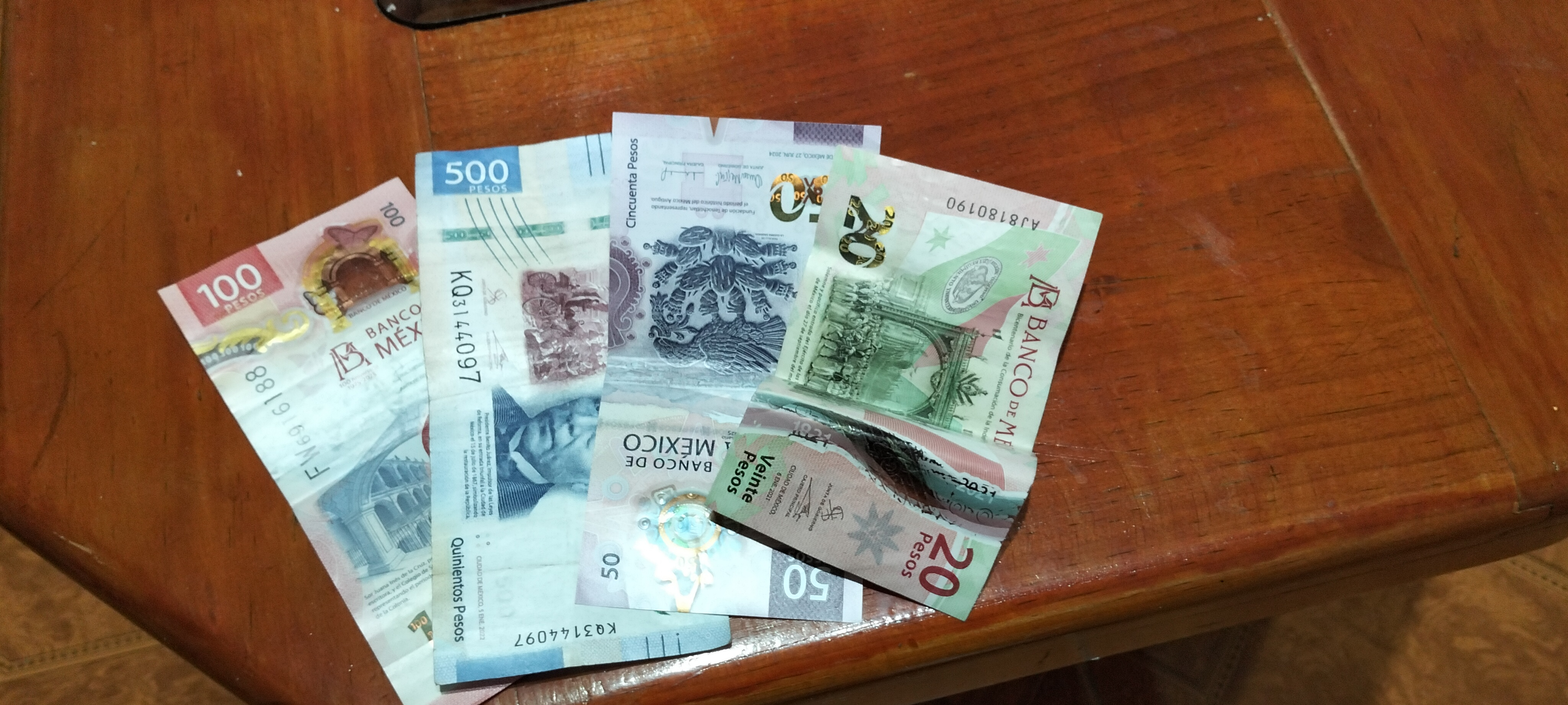billetes: (146, 91, 1133, 704)
